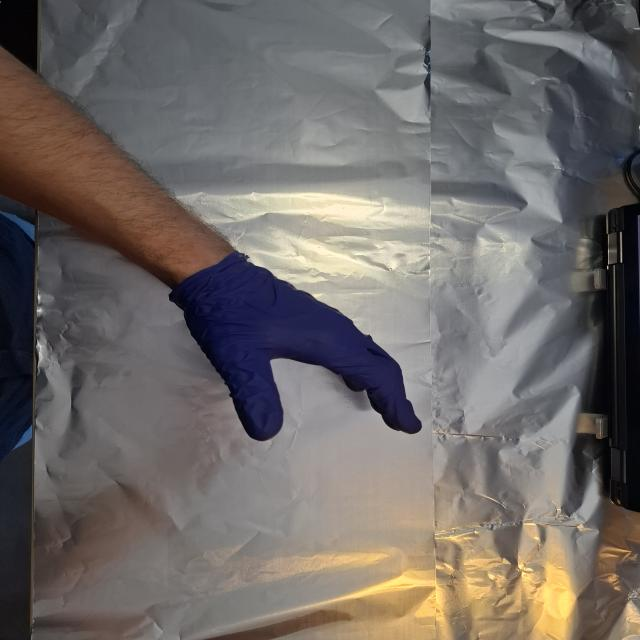glove_on: (173, 252, 426, 444)
